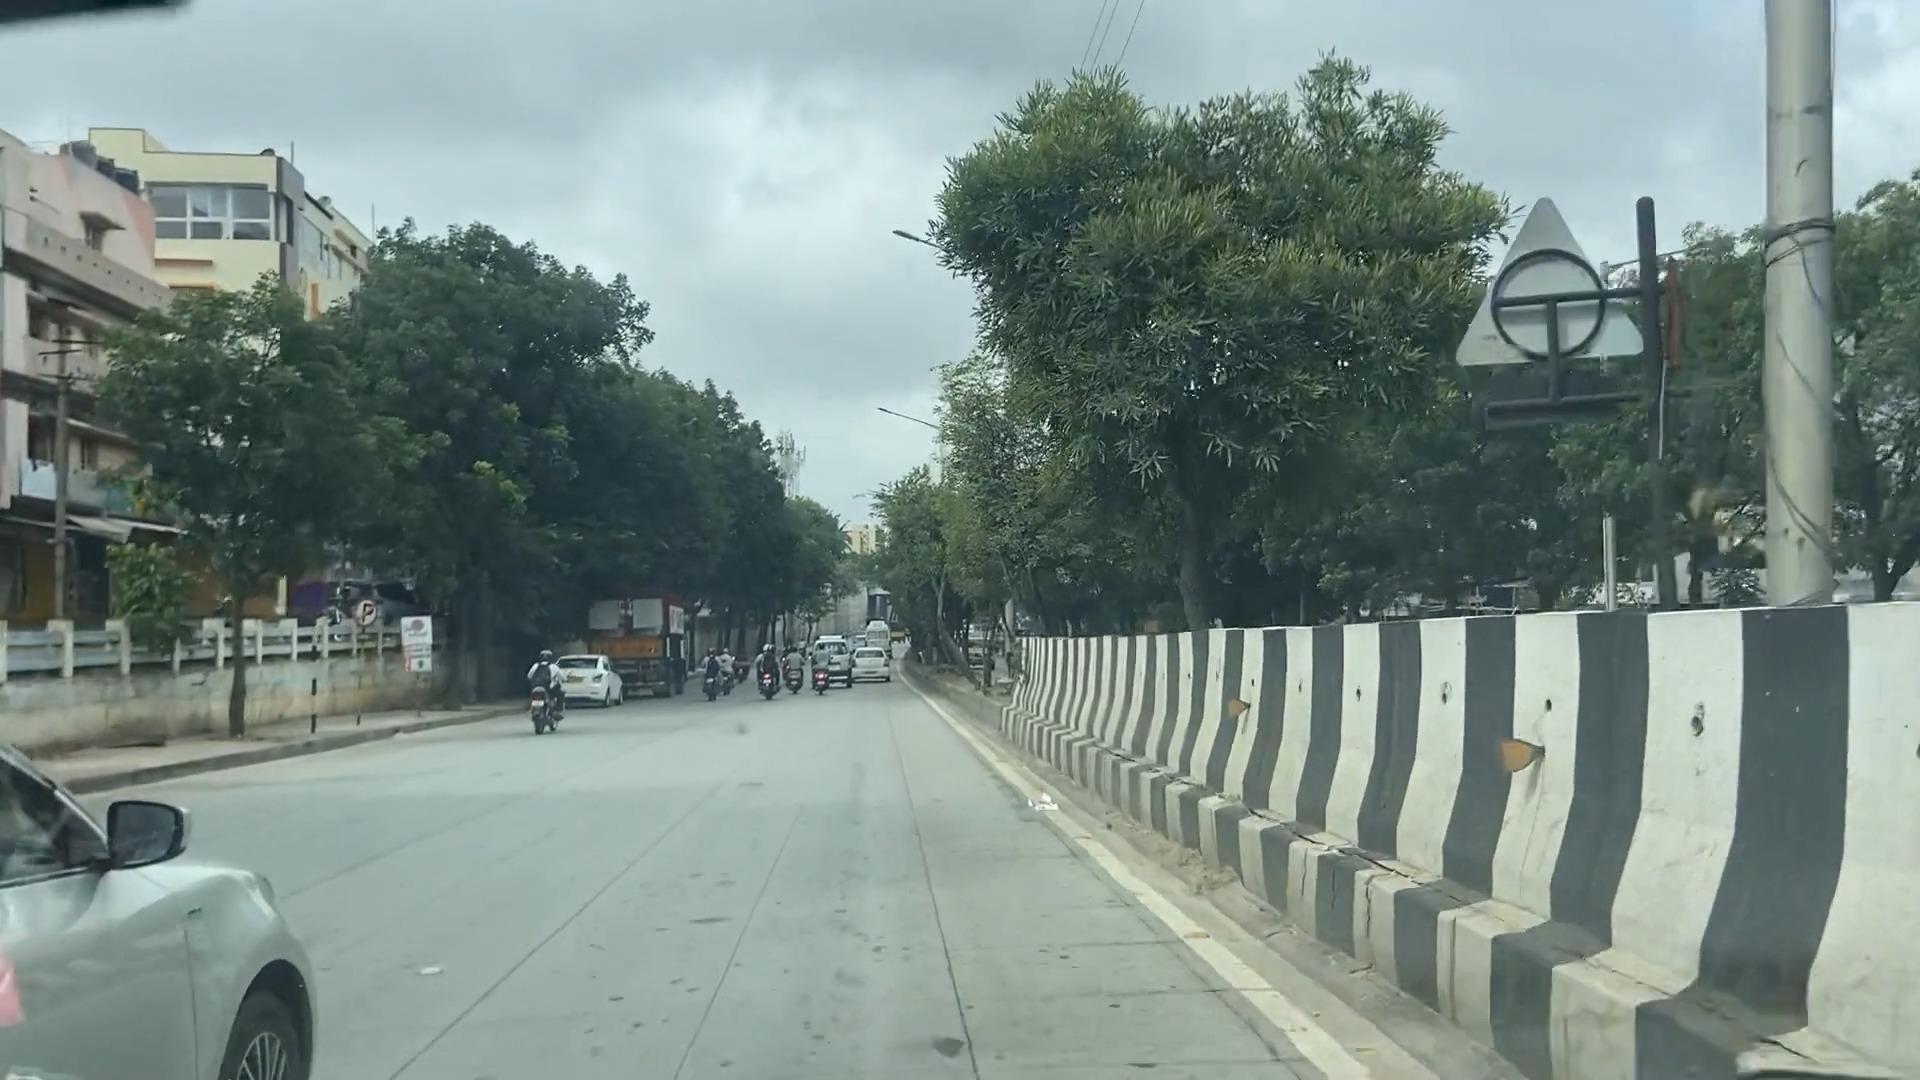LMV: (8, 770, 323, 1080)
